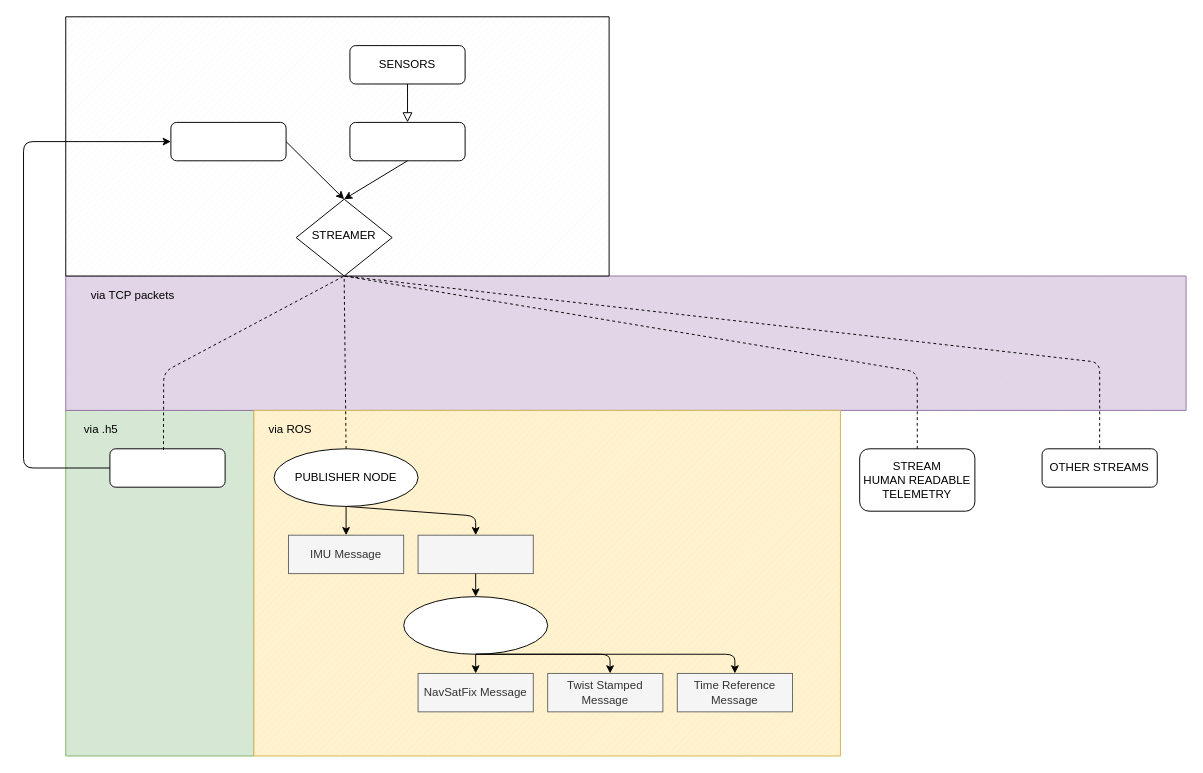
This 1203x773 diagram has some shape labels left out. Each missing label, with the centre of its shape:
DRIVERS / WORKERS: point (407, 141)
LOAD: point (228, 141)
NMEA Sentence Message: point (475, 554)
nmea_topic_driver NODE: point (475, 625)
SAVE: point (167, 467)
